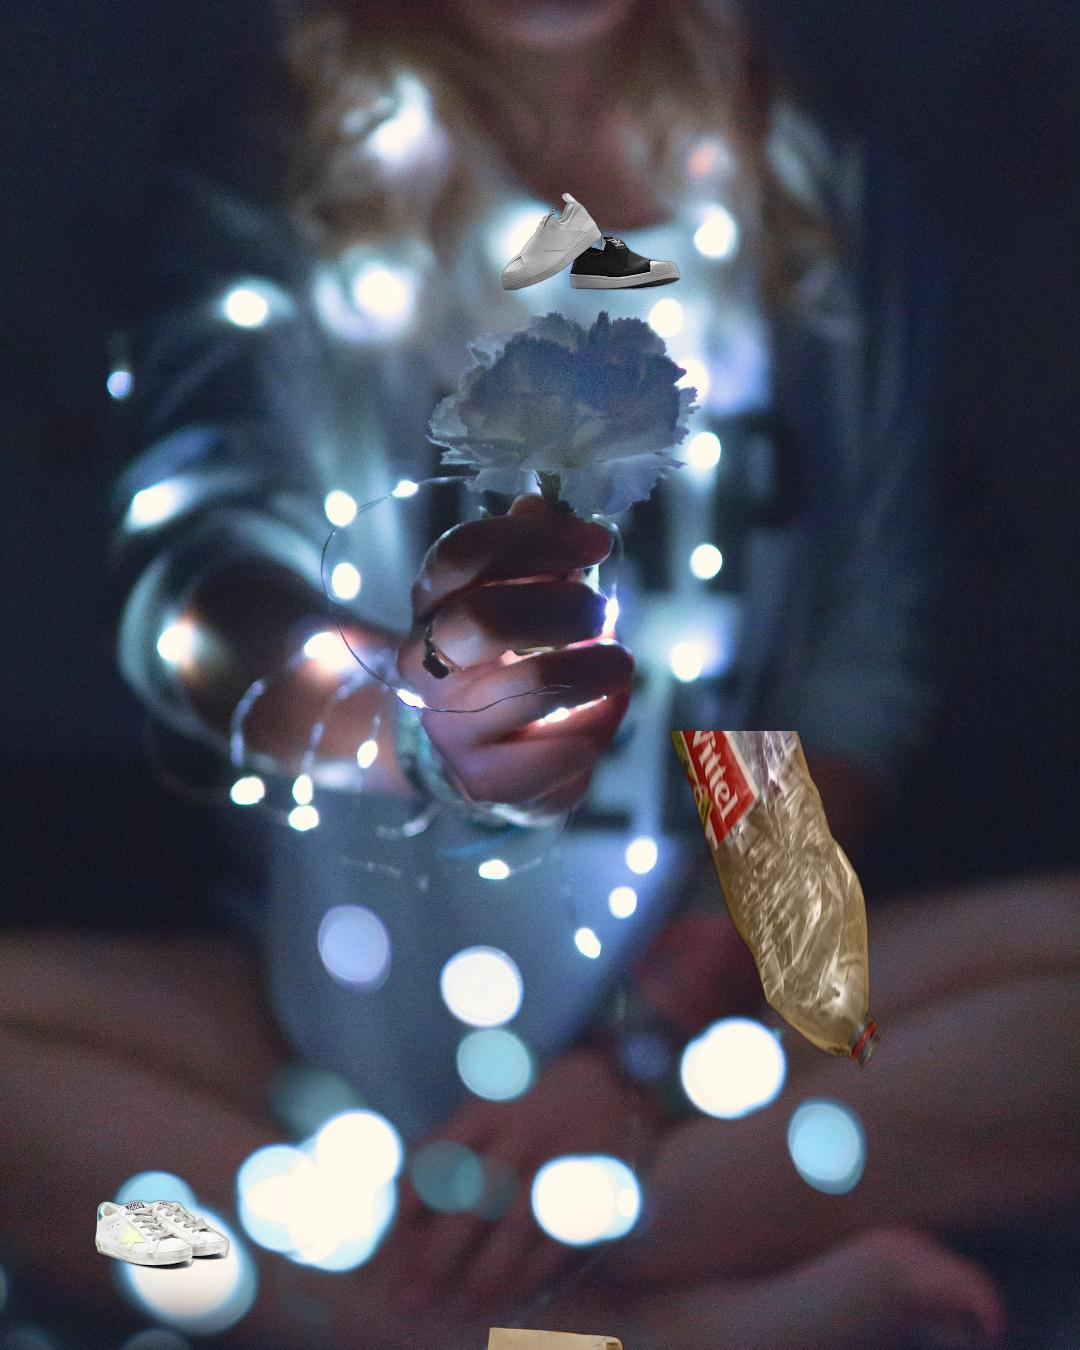paper-bag: (478, 1324, 624, 1350)
plastic-bottles: (667, 731, 884, 1074)
shoes: (499, 190, 683, 293), (91, 1198, 233, 1273)
